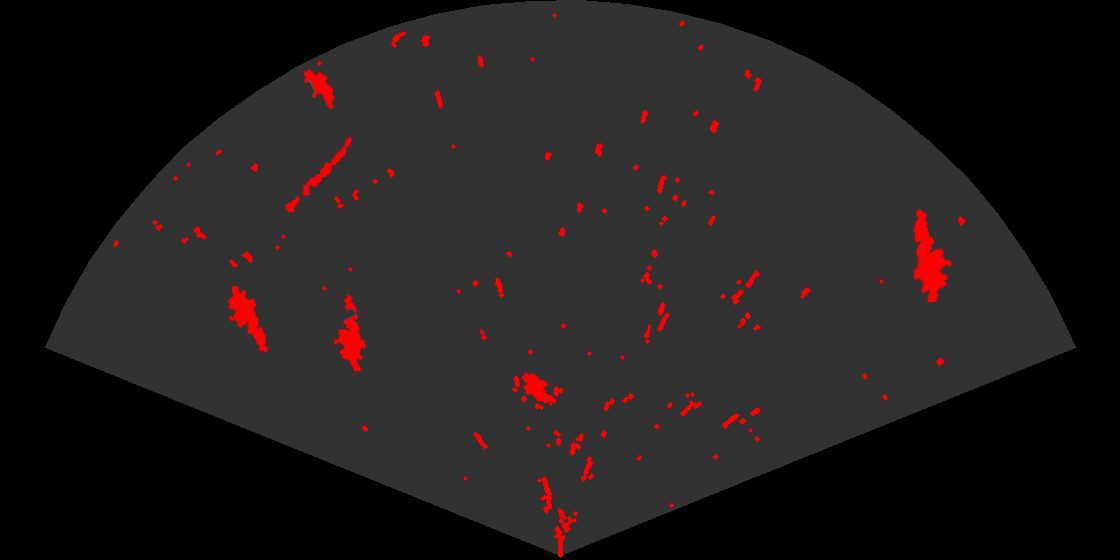AUV: (302, 67, 336, 111), (520, 370, 558, 405)
chain: (283, 136, 353, 214)
frogman: (912, 207, 954, 302), (226, 286, 269, 354), (333, 293, 367, 371)
